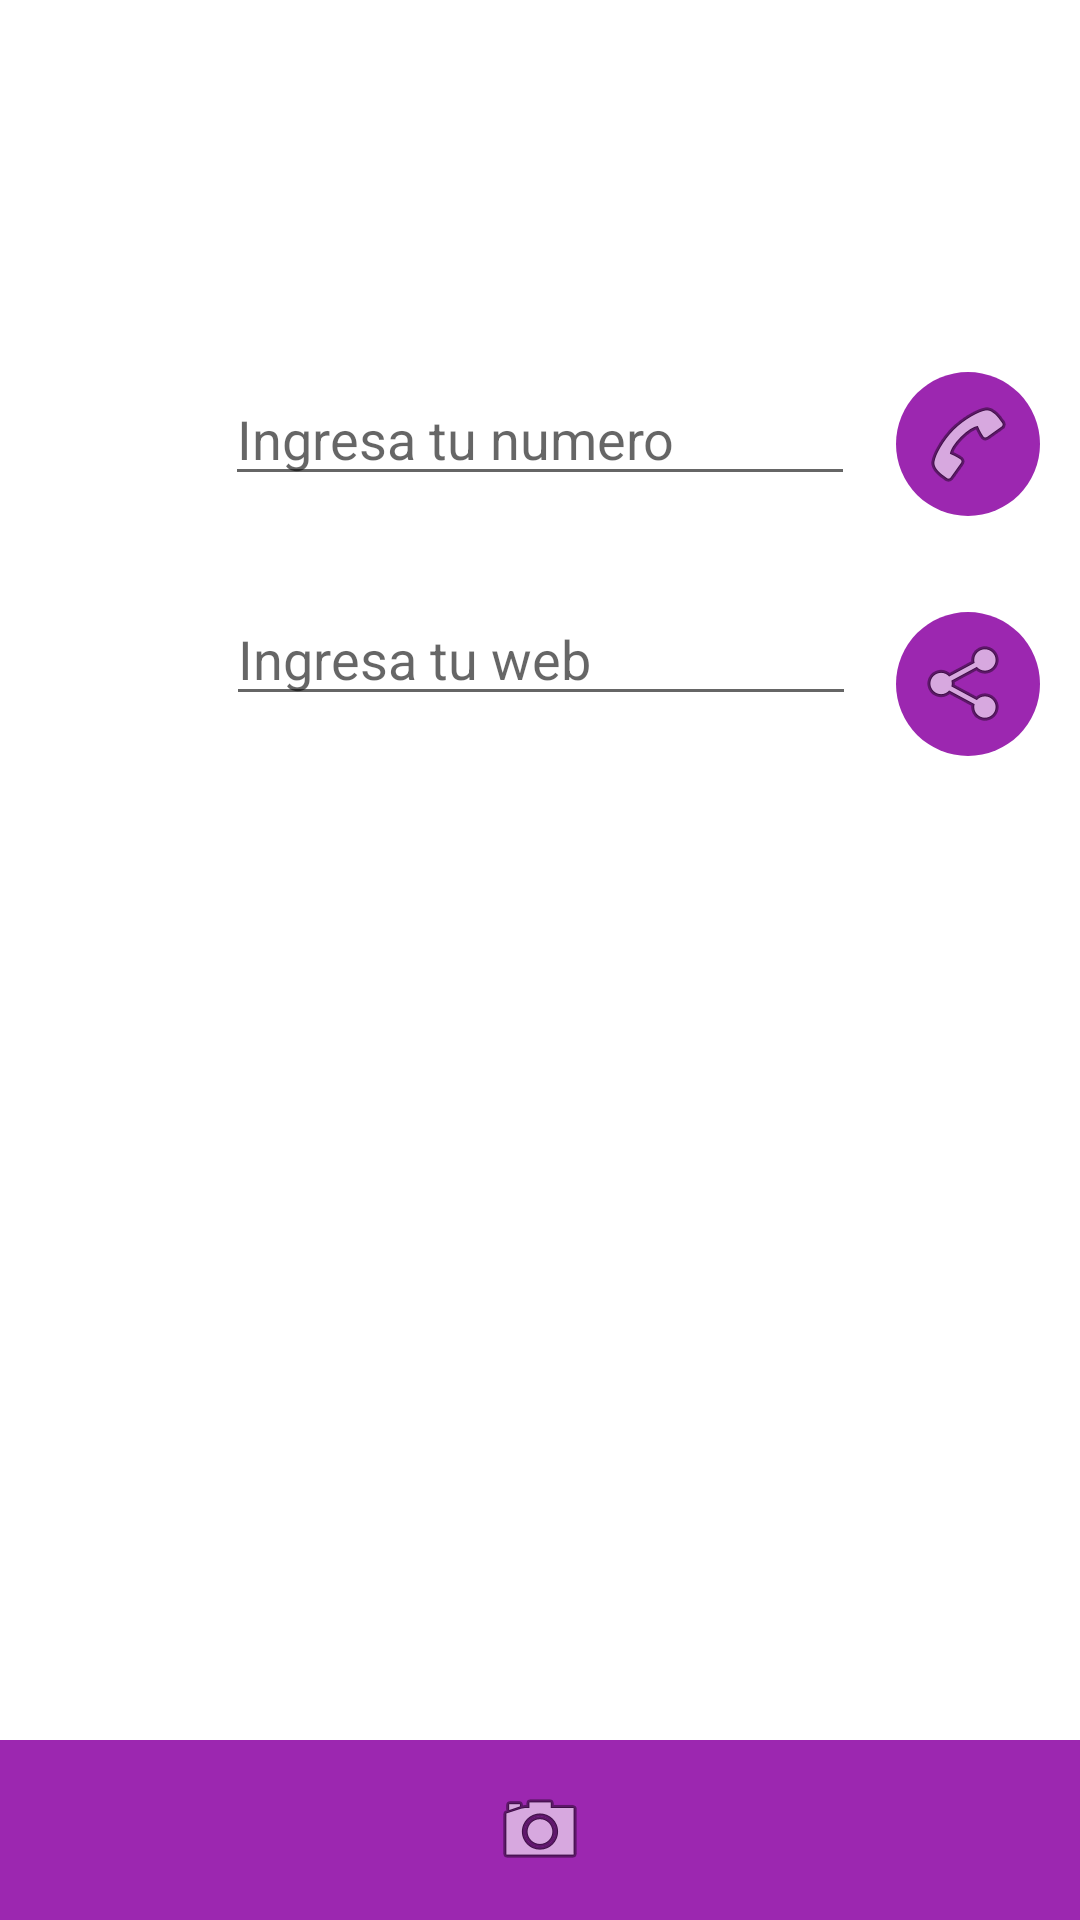

Screen size 1080×1920. Icon name, then its box in pixels as (x1, y1, x2, y2):
call: (896, 372, 1040, 516)
share: (896, 612, 1040, 756)
